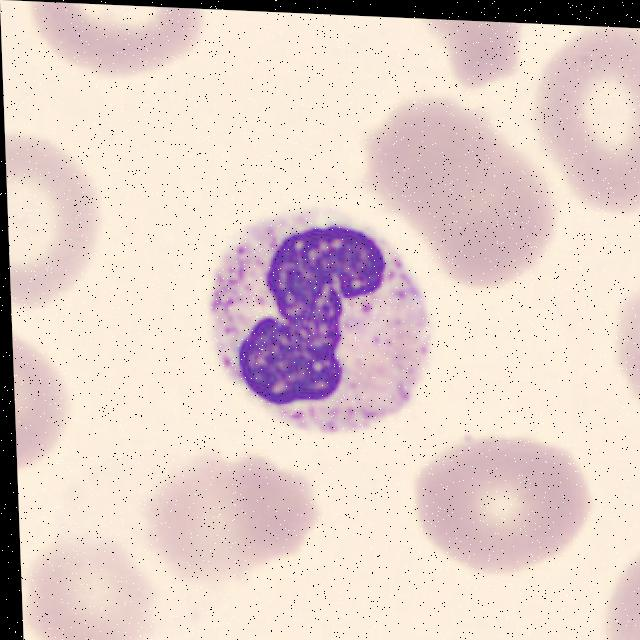neutrophil: (206, 201, 435, 446)
rbc: (381, 118, 534, 289), (144, 447, 326, 583), (421, 442, 591, 572), (537, 24, 640, 204), (5, 146, 101, 311), (32, 1, 181, 79), (21, 549, 147, 640), (12, 320, 68, 479), (426, 19, 532, 95), (588, 541, 640, 640), (616, 280, 640, 409)
